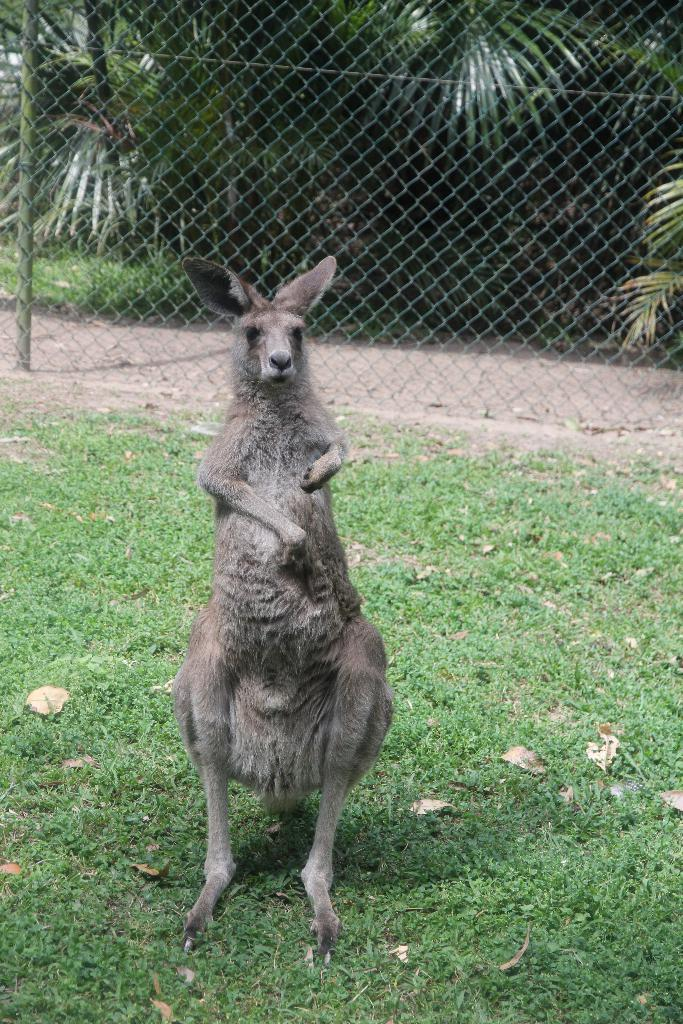kangaroo: (174, 262, 398, 956)
